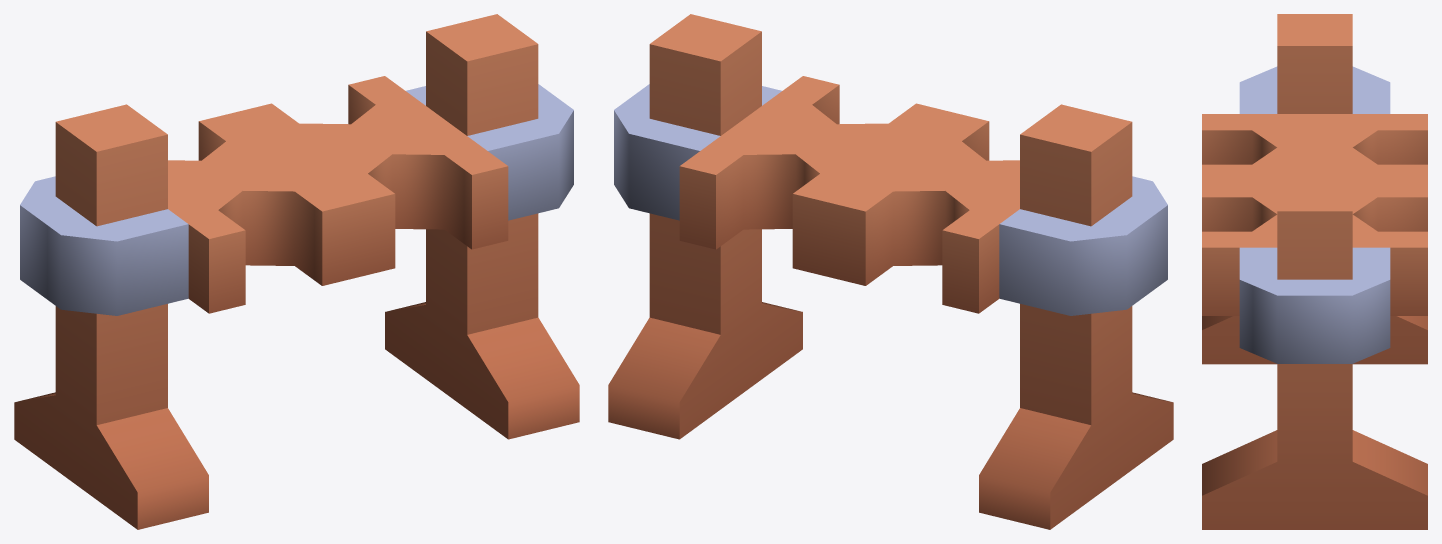
Rendered from weapon-rack.glb.
The picture shows the model from 3 angles, left to right: view 1: azimuth 30°, elevation 25°; view 2: azimuth 150°, elevation 25°; view 3: azimuth 270°, elevation 25°; orthographic projection. The views are drawn at different scales.
Visible parts, largest first — view 1: weapon-rack, Group; view 2: weapon-rack, Group; view 3: weapon-rack, Group.
Boxes of the visible parts, x1,y1,x2,y2 form: weapon-rack: (14, 14, 579, 529); Group: (168, 76, 508, 313); weapon-rack: (608, 14, 1173, 529); Group: (679, 76, 1019, 313); weapon-rack: (1202, 14, 1427, 529); Group: (1202, 114, 1427, 315).
Size of the model in its own units: 0.72 by 0.4667 by 0.3.
Materials: 1 (1 with a texture image).
